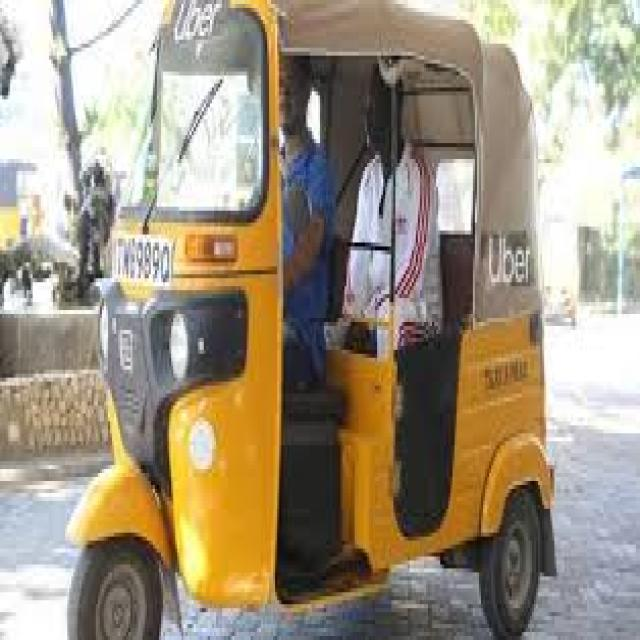tuktuk: (50, 0, 578, 640)
